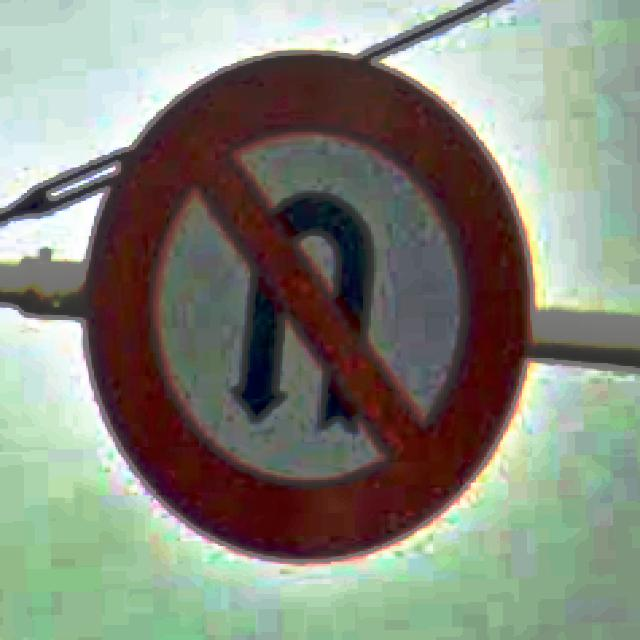nouturn: (83, 53, 538, 564)
